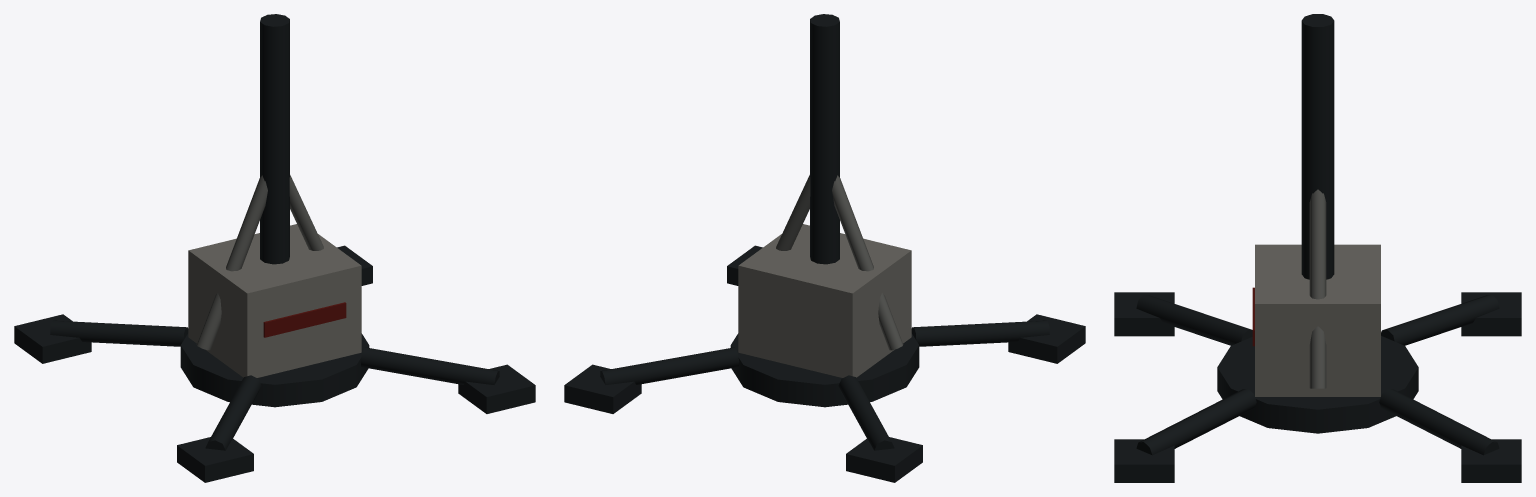
3 views of the same model, side by side, from view 1: azimuth 30°, elevation 25°; view 2: azimuth 150°, elevation 25°; view 3: azimuth 270°, elevation 25° (orthographic). The views are drawn at different scales.
Parts seen in each view (by area): view 1: radar-station-fleet-machine, radar-station-fleet-armor, radar-station-fleet-edge, radar-station-fleet-red; view 2: radar-station-fleet-machine, radar-station-fleet-armor, radar-station-fleet-edge; view 3: radar-station-fleet-machine, radar-station-fleet-armor, radar-station-fleet-edge.
Boxes of the visible parts, x1,y1,x2,y2 form: radar-station-fleet-machine: [14, 14, 535, 482]; radar-station-fleet-armor: [188, 224, 361, 377]; radar-station-fleet-edge: [196, 175, 323, 350]; radar-station-fleet-red: [263, 302, 346, 337]; radar-station-fleet-machine: [564, 14, 1085, 482]; radar-station-fleet-armor: [738, 224, 911, 377]; radar-station-fleet-edge: [776, 175, 903, 350]; radar-station-fleet-machine: [1114, 14, 1521, 482]; radar-station-fleet-armor: [1255, 244, 1380, 396]; radar-station-fleet-edge: [1309, 189, 1326, 388].
Size of the model in its own units: 20 by 20.37 by 20.
